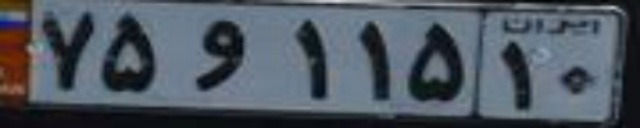0: (557, 64, 597, 95)
1: (290, 18, 327, 98), (355, 19, 389, 100), (498, 40, 531, 110)
5: (401, 21, 464, 101), (100, 11, 155, 93)
7: (37, 7, 95, 92)
vav: (189, 18, 250, 89)
